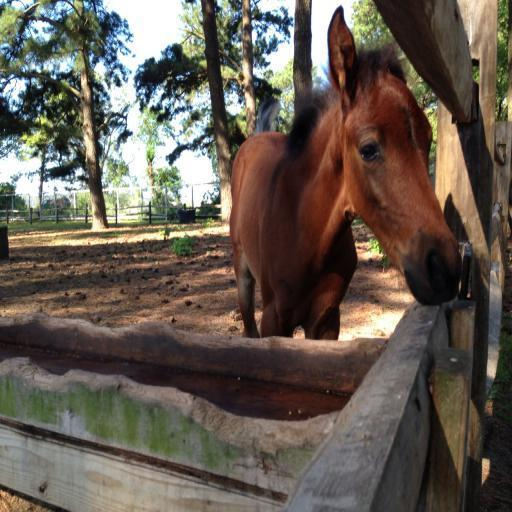horse: (227, 4, 462, 342)
